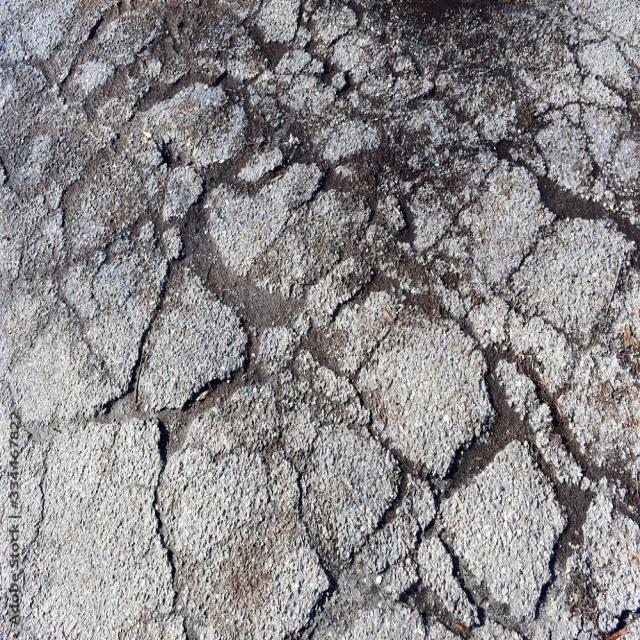Drain Hole: (65, 18, 640, 626)
